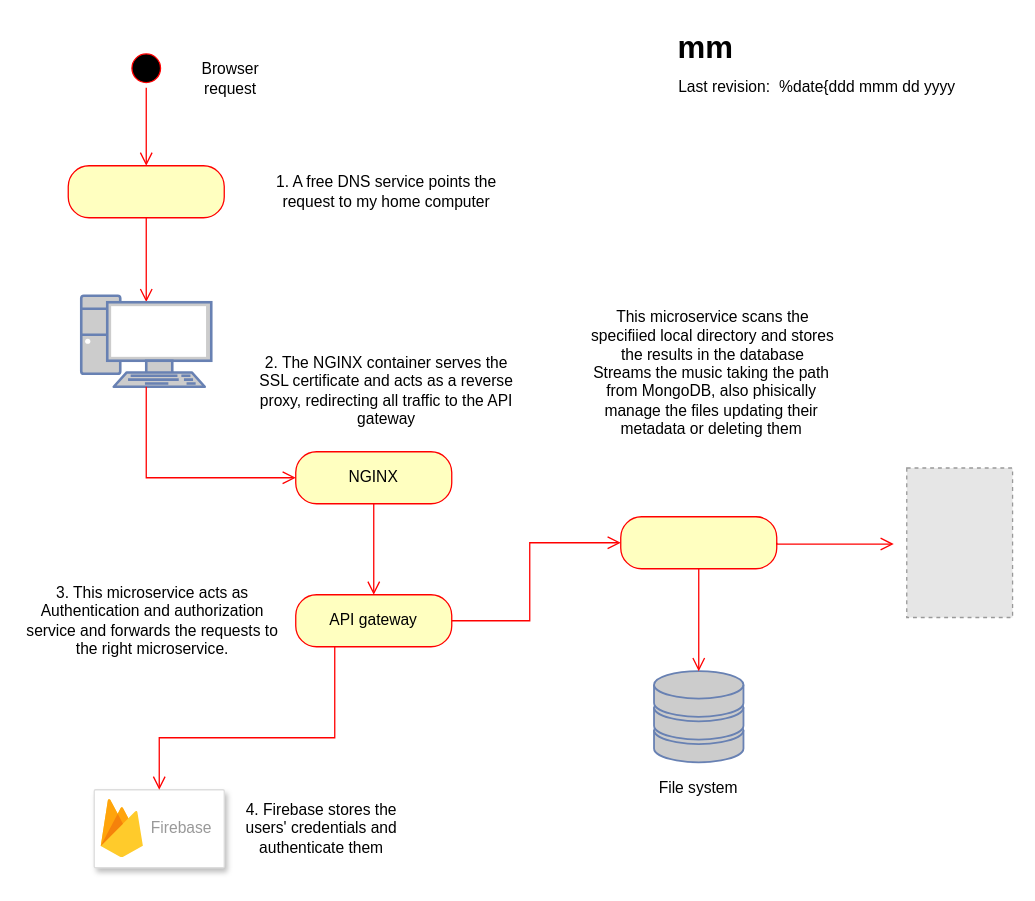
This 1035x901 diagram has some shape labels left out. Grey dashed boxes stand in for pictures. Each missing label, with the centre of its shape:
"Dynamic DNS service" belongs at point (145, 191).
"Scanner and streamer" belongs at point (698, 542).
